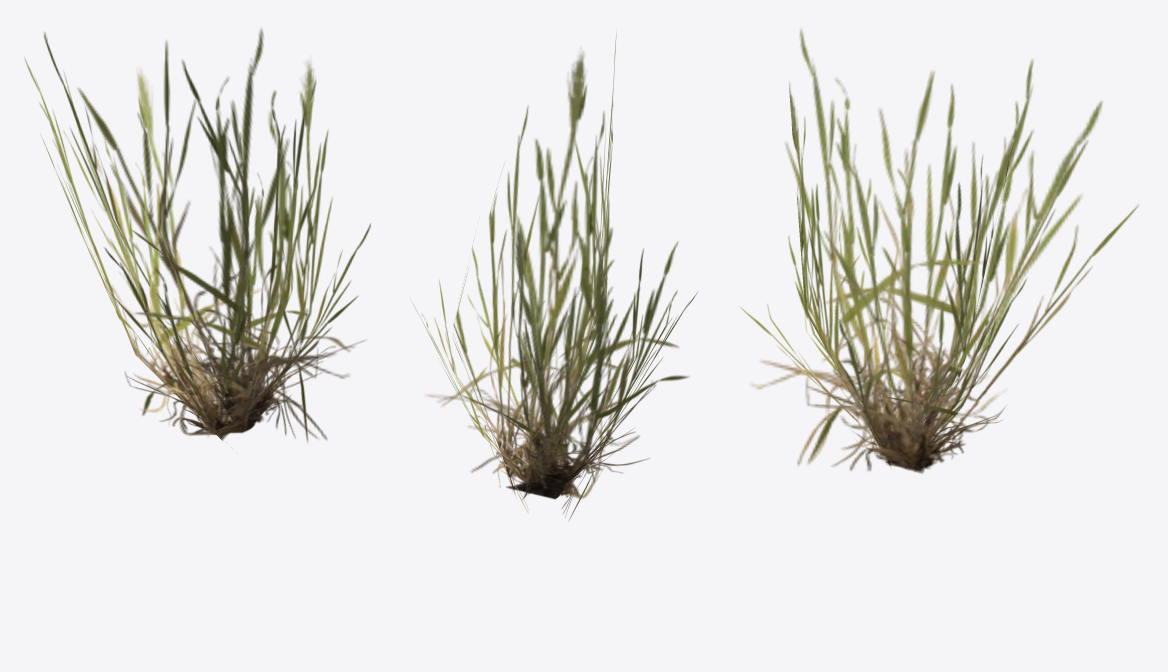
File: grass-chunk-a.glb
3 views of the same model, side by side, from view 1: azimuth 30°, elevation 25°; view 2: azimuth 150°, elevation 25°; view 3: azimuth 270°, elevation 25° (orthographic). The views are drawn at different scales.
Parts seen in each view (by area): view 1: rostlinka_07c; view 2: rostlinka_07c; view 3: rostlinka_07c.
Part boxes in pixels (x1=…): rostlinka_07c: x1=24, y1=29, x2=370, y2=448; rostlinka_07c: x1=411, y1=32, x2=697, y2=521; rostlinka_07c: x1=740, y1=29, x2=1139, y2=473.
Bounding box in the file's own units: 6.66 × 13.43 × 8.1.
Materials: 1 (1 with a texture image).
